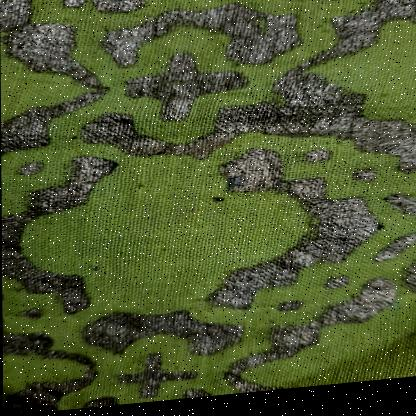spot: (206, 197, 245, 212), (368, 225, 388, 242)
